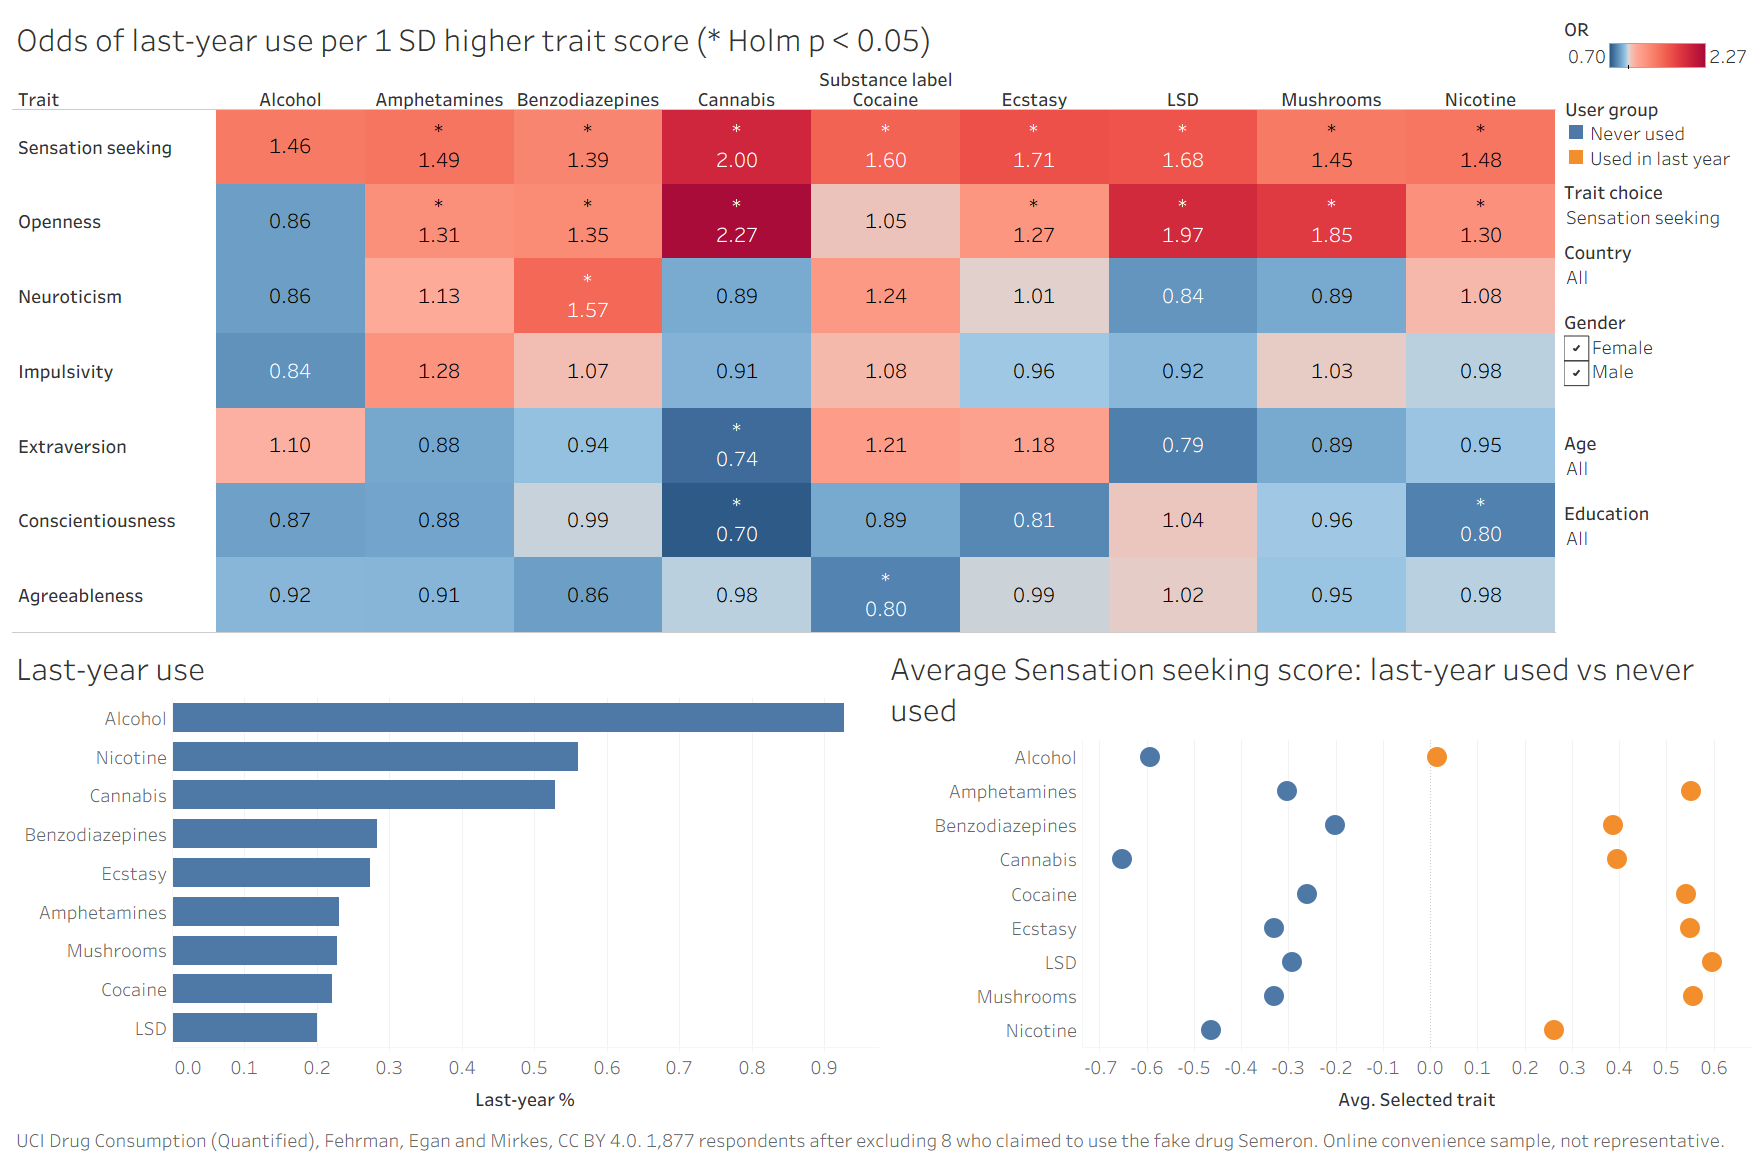

What the dashboard file says about the page in this screenshot:
{"tool":"tableau","page":{"name":"Dashboard","canvas":[1000,1000],"units":"permille","ordinal":0},"visuals":[{"type":"worksheet","title":"Odds ratio","mark":"Square","rows":["Trait"],"cols":["Substance_label"],"box":[4.5,6.9,879.8,539.5]},{"type":"legend","title":"Odds ratio","param":"[federated.1oz4rpv1c83i6m10ehen107jiqmi].[avg:OR:qk]","box":[884.4,6.9,111.1,69.5]},{"type":"legend","title":"Trait profile","param":"[federated.0widhpu1dp07bg1epgwpk1qt4q4n].[none:Calculation_2983318527987717:nk]","box":[884.4,76.3,111.1,72]},{"type":"parameter","param":"[Parameters].[Parameter 2983318526152707]","box":[884.4,148.4,111.1,51.5]},{"type":"filter","title":"Last-year use","param":"[federated.0widhpu1dp07bg1epgwpk1qt4q4n].[none:Country:nk]","box":[884.4,199.8,111.1,60]},{"type":"filter","title":"Last-year use","param":"[federated.0widhpu1dp07bg1epgwpk1qt4q4n].[none:Gender:nk]","box":[884.4,259.9,111.1,103.8]},{"type":"filter","title":"Last-year use","param":"[federated.0widhpu1dp07bg1epgwpk1qt4q4n].[none:Age:nk]","box":[884.4,363.6,111.1,60]},{"type":"worksheet","title":"Last-year use","mark":"Bar","rows":["Substance_label"],"cols":["Calculation_2983318521470978"],"box":[4.5,546.4,495.3,415.8]},{"type":"worksheet","title":"Trait profile","mark":"Circle","rows":["Substance_label"],"cols":["Calculation_2983318526615556"],"box":[499.9,546.4,495.6,415.8]},{"type":"text","box":[4.5,962.1,990.9,31]}]}

Visuals, with their boxes on the dashboard's canvas, which has no fixed pixel size, in thousandths of its width and height (x1, y1, x2, y2). These are canvas units, not pixel positions in the 1764x1166 screenshot, which may show the page scaled, cropped or inside an application window:
"Odds ratio" worksheet (Square marks): select_region(4, 7, 884, 546)
"Odds ratio" legend: select_region(884, 7, 996, 76)
"Trait profile" legend: select_region(884, 76, 996, 148)
parameter: select_region(884, 148, 996, 200)
"Last-year use" filter: select_region(884, 200, 996, 260)
"Last-year use" filter: select_region(884, 260, 996, 364)
"Last-year use" filter: select_region(884, 364, 996, 424)
"Last-year use" worksheet (Bar marks): select_region(4, 546, 500, 962)
"Trait profile" worksheet (Circle marks): select_region(500, 546, 996, 962)
text: select_region(4, 962, 995, 993)
